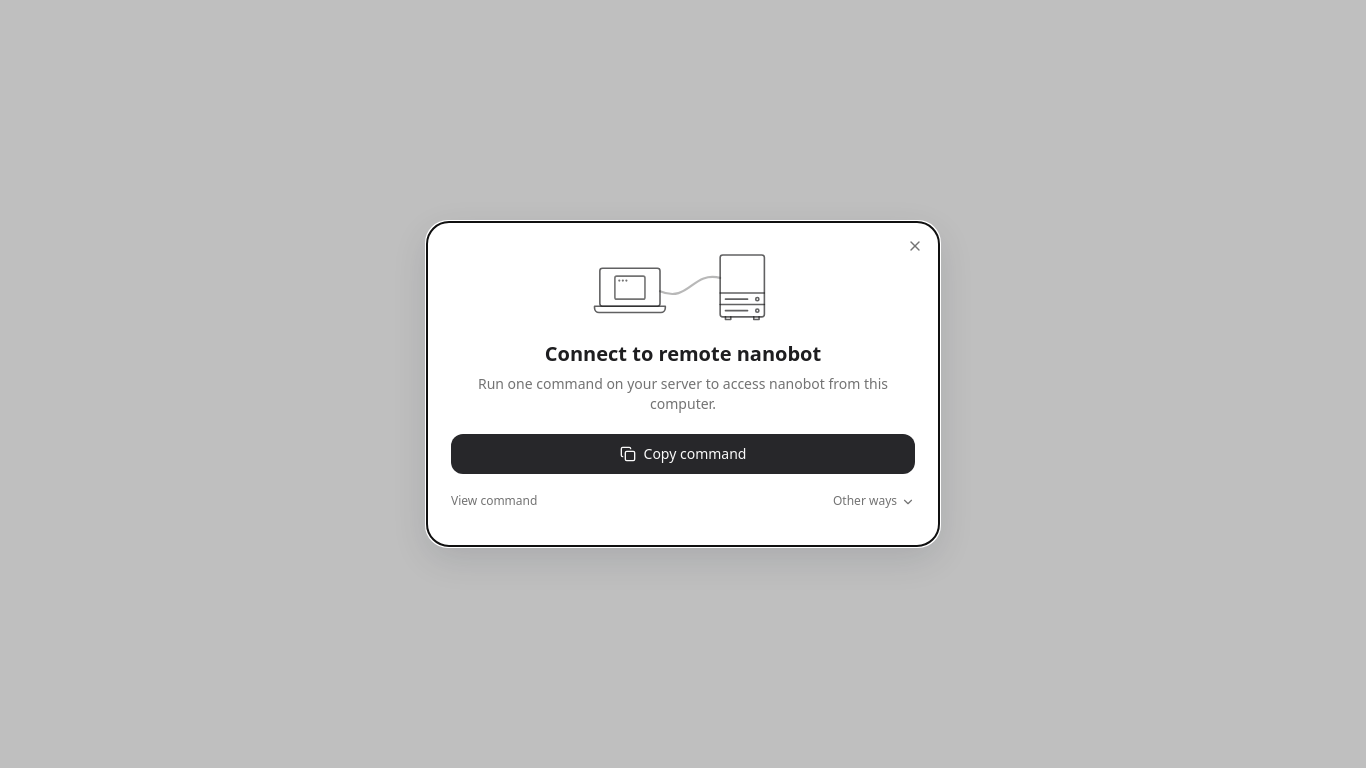
Test: quick pairing › introduces remote access with the original logo and no duplicate instruction spacer
The image size is (1366, 768).
Click the button "Copy command".
click(683, 454)  # box [451,434,915,474]
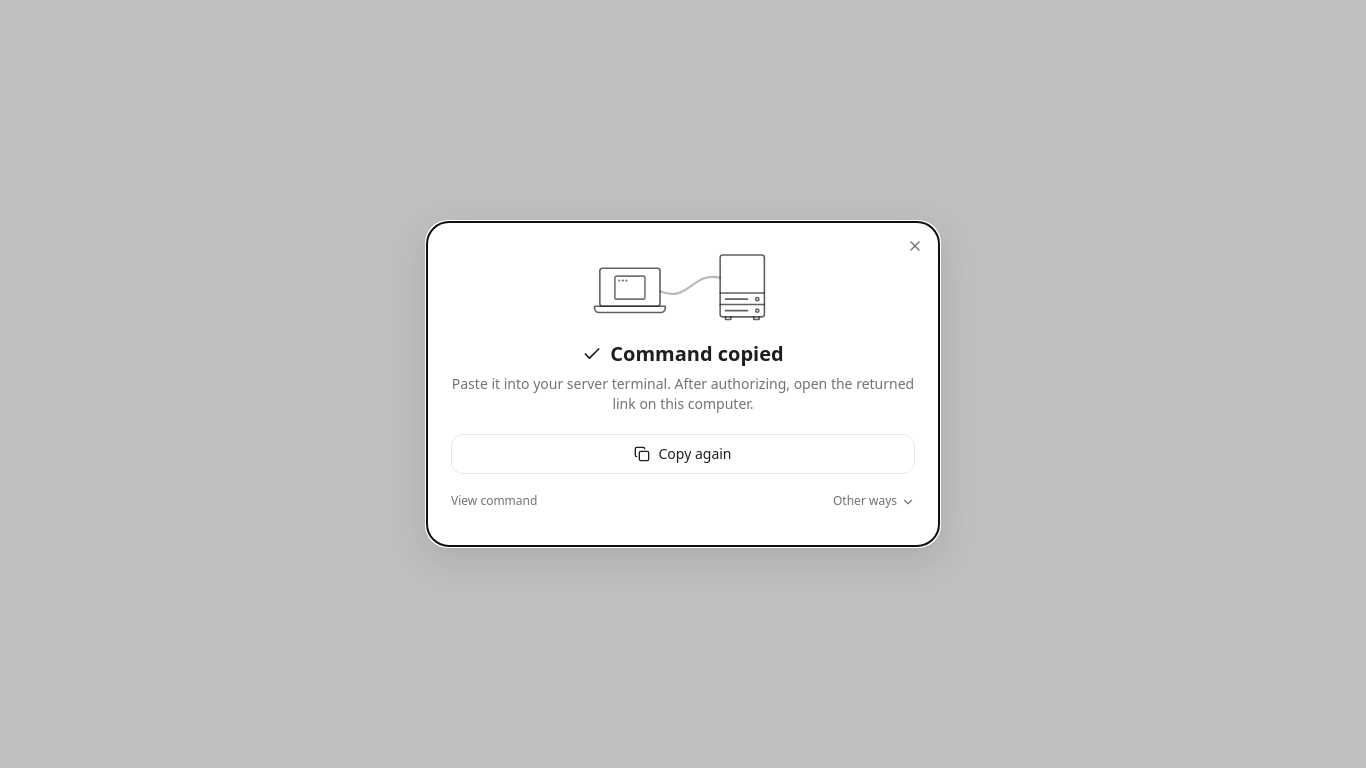
Expected: the heading "Command copied" is shown, [582,340,784,367]
Expected: the text "Run one command on your server to access nanobot from this computer." is gone
